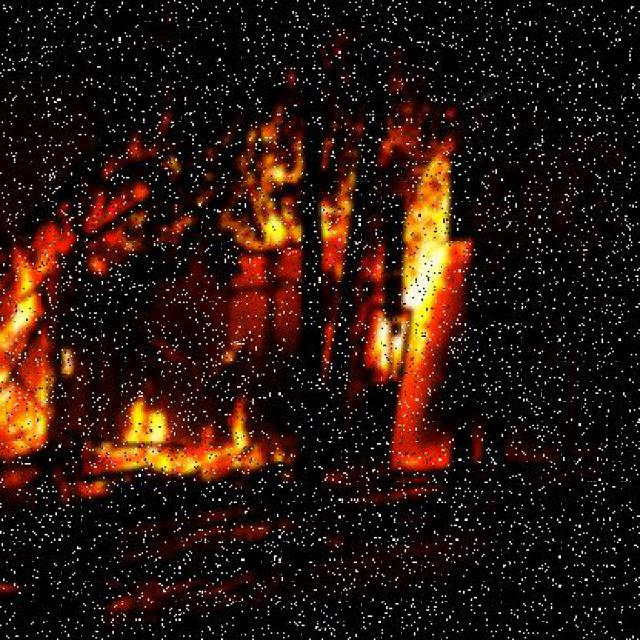fire: (1, 185, 475, 509)
